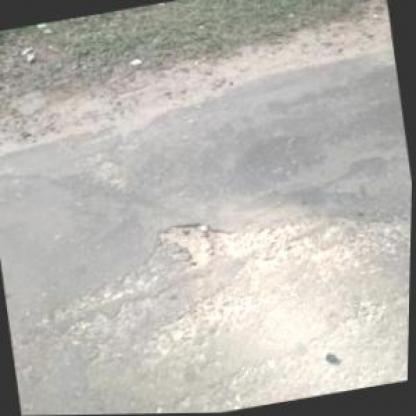pothole: (154, 216, 222, 278)
